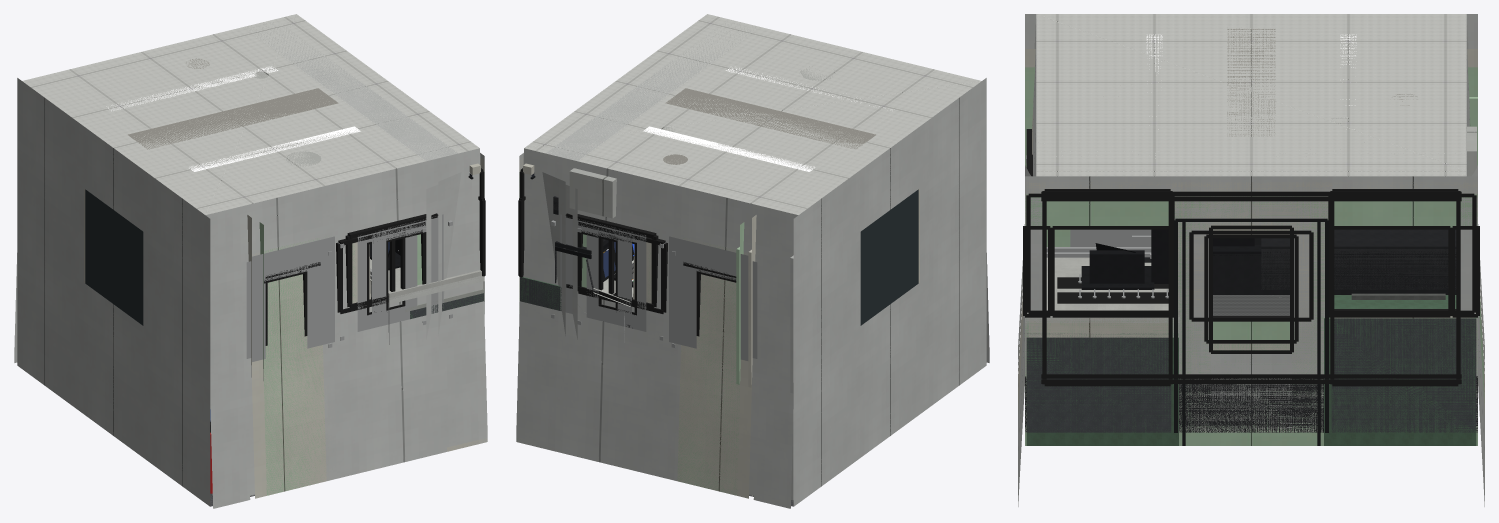
The model's file is cab_interior.glb.
3 renders of one model, left to right at view 1: azimuth 30°, elevation 25°; view 2: azimuth 150°, elevation 25°; view 3: azimuth 270°, elevation 25°, orthographic. The views are drawn at different scales.
Parts seen in each view (by area): view 1: cab_interior_e231, cab_interior_e233, cab_interior_211, cab_interior_115; view 2: cab_interior_e231, cab_interior_e233, cab_interior_211, cab_interior_115; view 3: cab_interior_e231, cab_interior_211, cab_interior_115, cab_interior_e131, cab_interior_e233.
Boxes of the visible parts, bbox=[...] form: cab_interior_e231: bbox=[14, 14, 487, 504]; cab_interior_e233: bbox=[14, 84, 487, 508]; cab_interior_211: bbox=[84, 158, 487, 498]; cab_interior_115: bbox=[259, 171, 485, 495]; cab_interior_e231: bbox=[516, 14, 989, 504]; cab_interior_e233: bbox=[516, 82, 989, 508]; cab_interior_211: bbox=[517, 158, 919, 498]; cab_interior_115: bbox=[517, 172, 744, 495]; cab_interior_e231: bbox=[1018, 14, 1484, 501]; cab_interior_211: bbox=[1018, 49, 1484, 432]; cab_interior_115: bbox=[1023, 67, 1484, 445]; cab_interior_e131: bbox=[1025, 176, 1477, 432]; cab_interior_e233: bbox=[1018, 19, 1484, 506].
Bounding box in the file's own units: 2.3 × 2.31 × 2.89.
142 materials, 58 textured.
